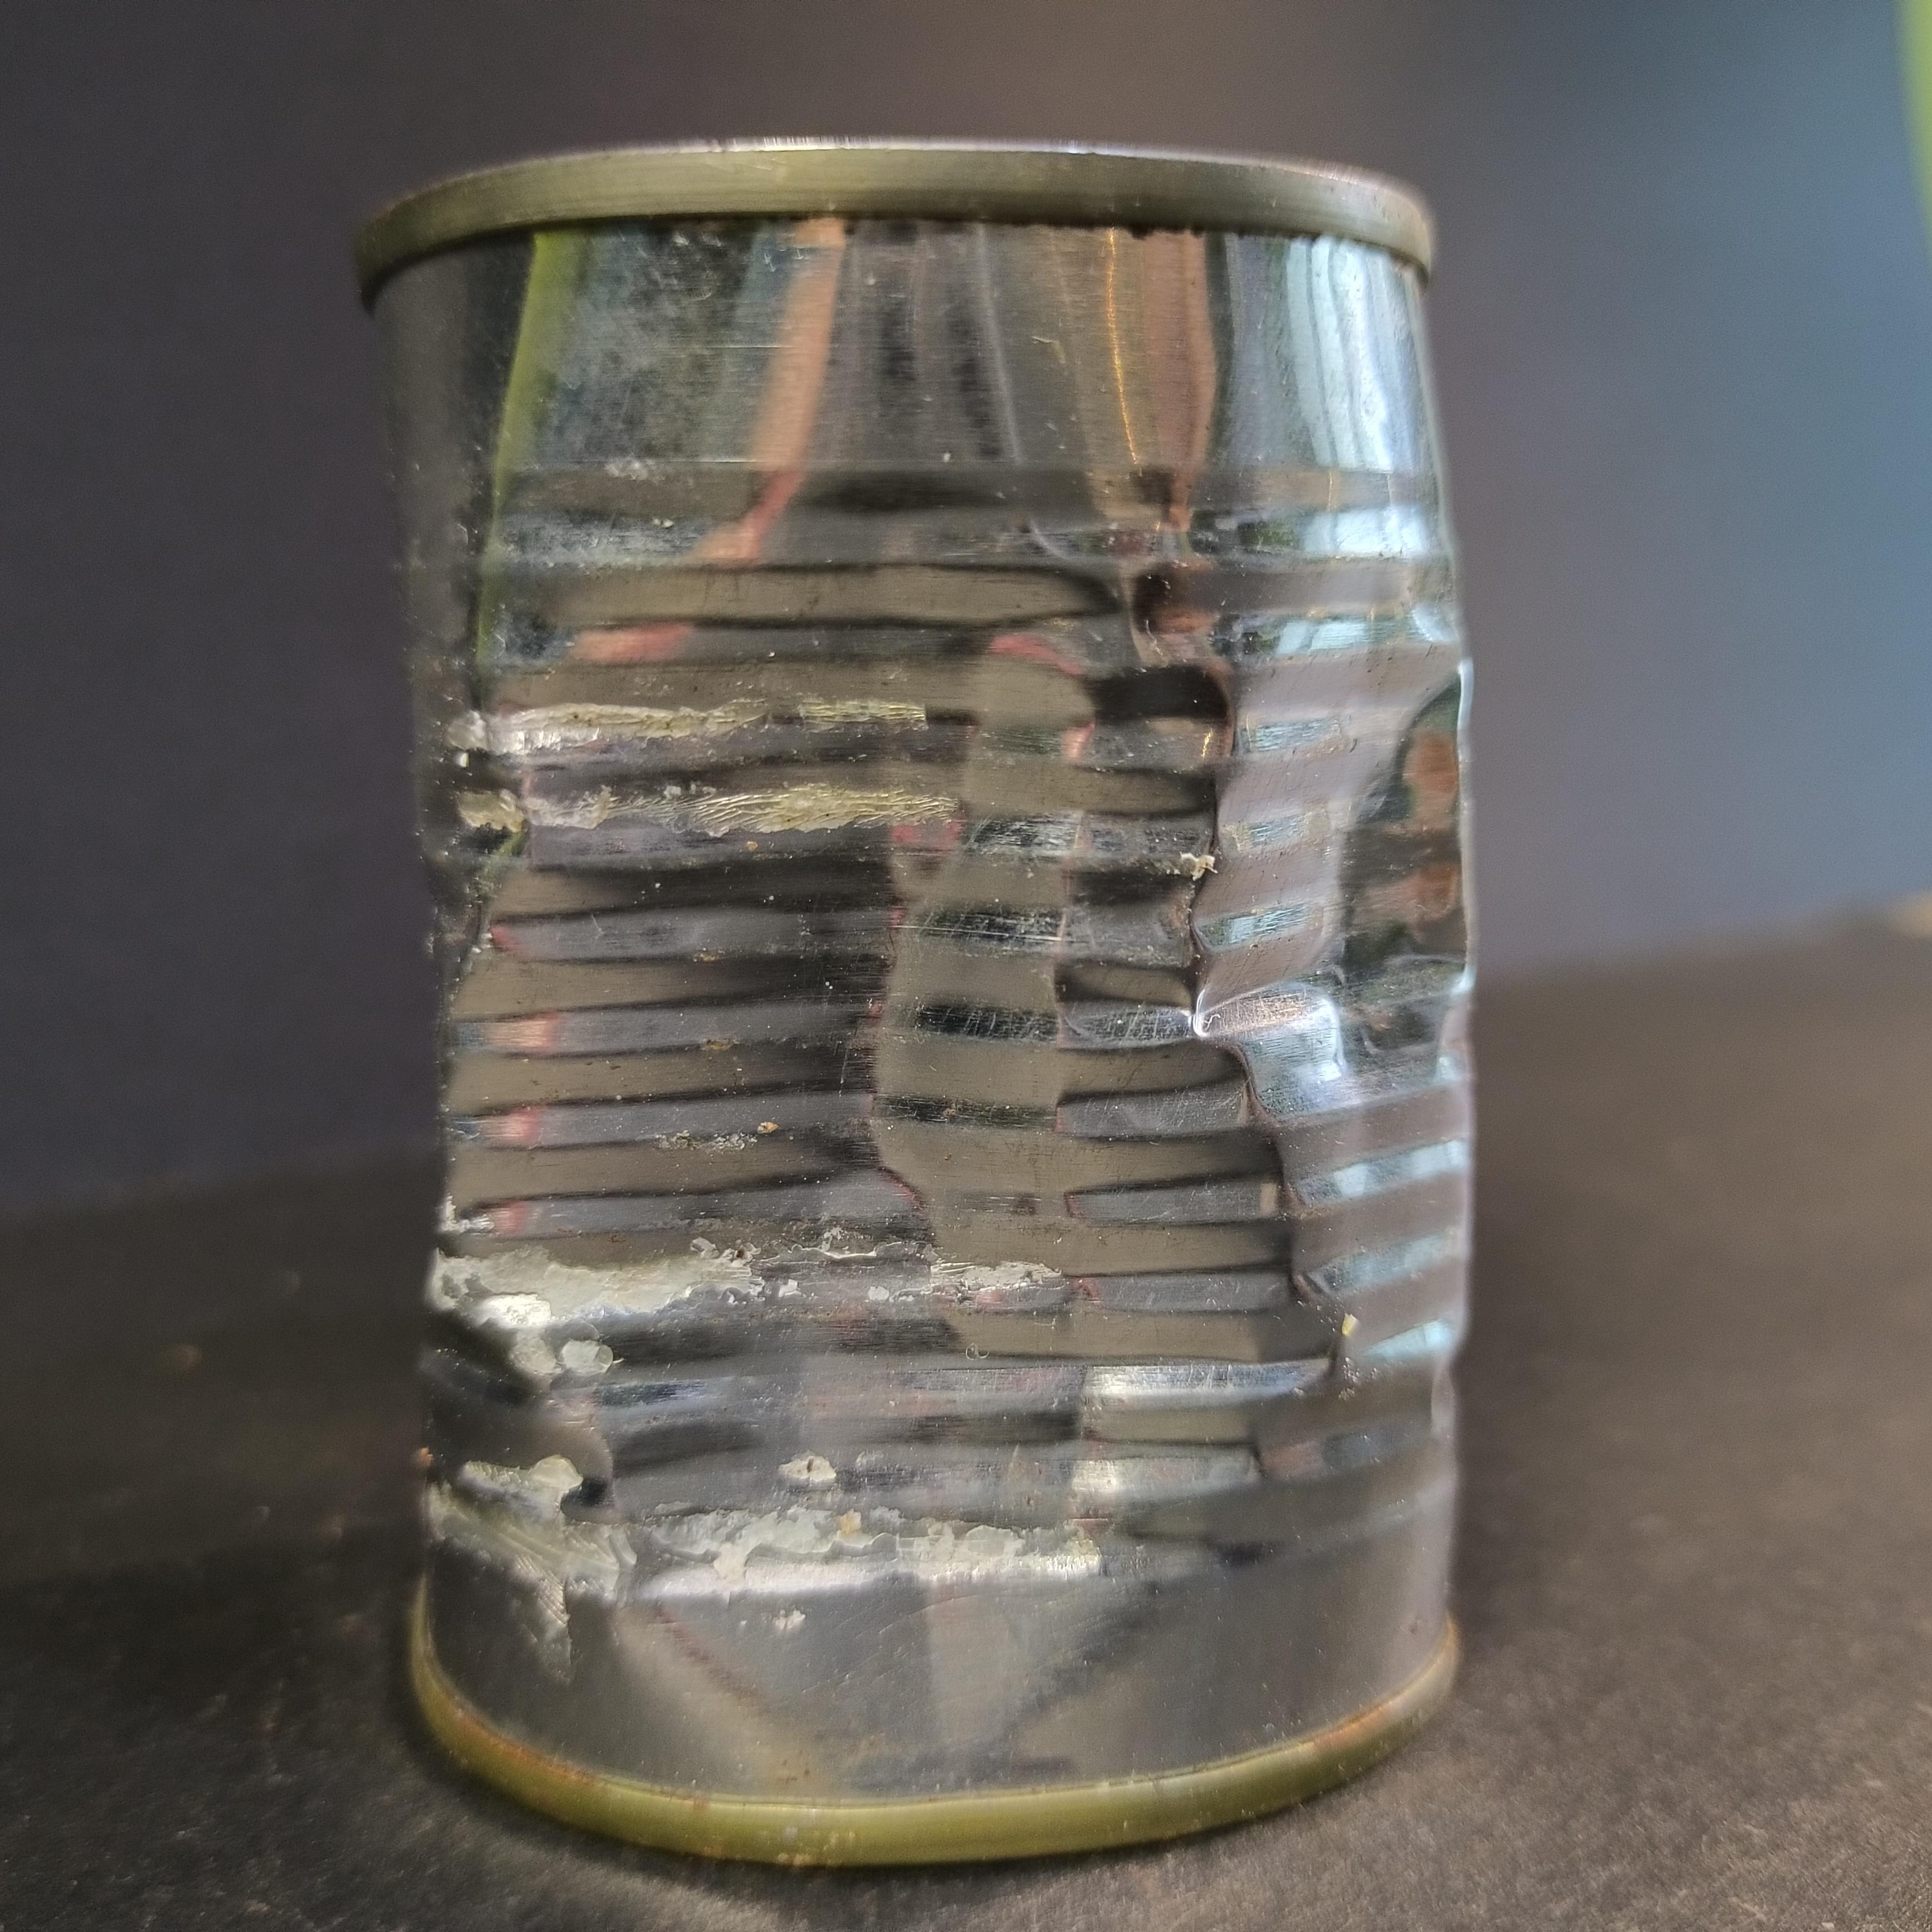Dented: (331, 106, 1522, 1911)
